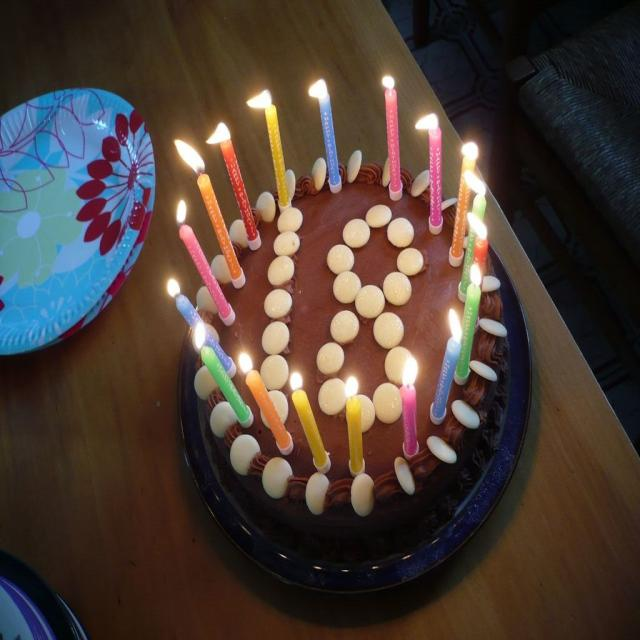non-organic waste: (0, 62, 163, 390)
